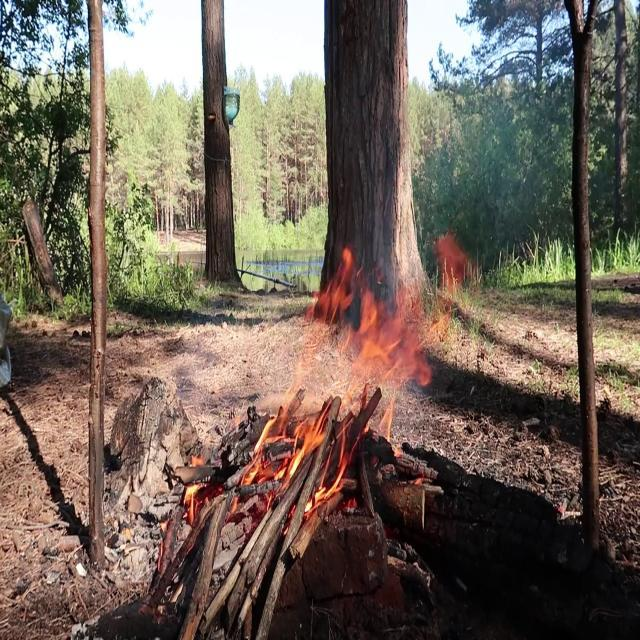Fire: (190, 244, 425, 524)
